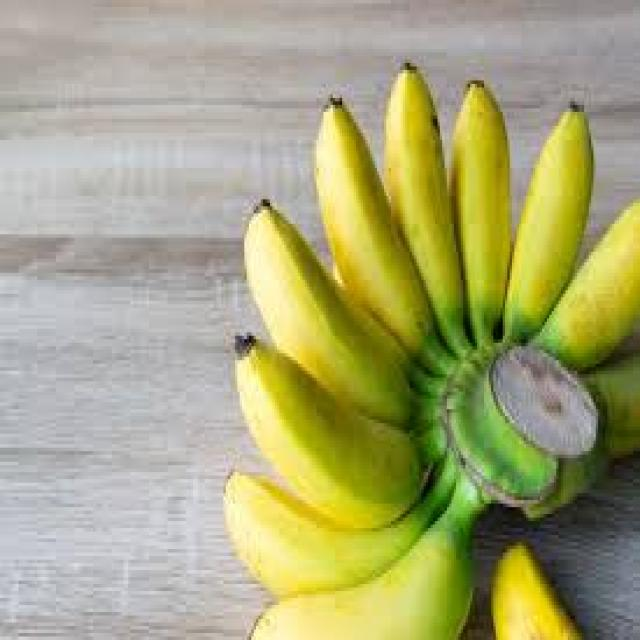Banana: (236, 338, 423, 527), (247, 207, 409, 425), (224, 455, 456, 595), (315, 100, 435, 354), (385, 66, 470, 356), (504, 111, 594, 339), (533, 199, 640, 367), (453, 81, 510, 347)
